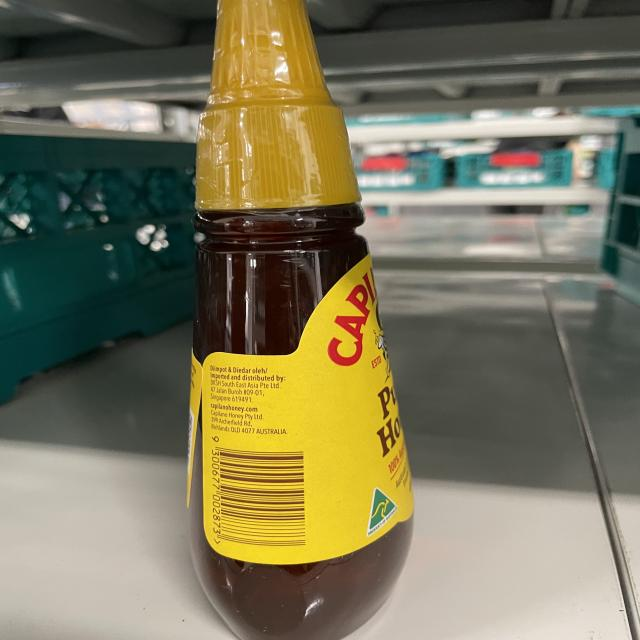object_name: (195, 0, 403, 640)
